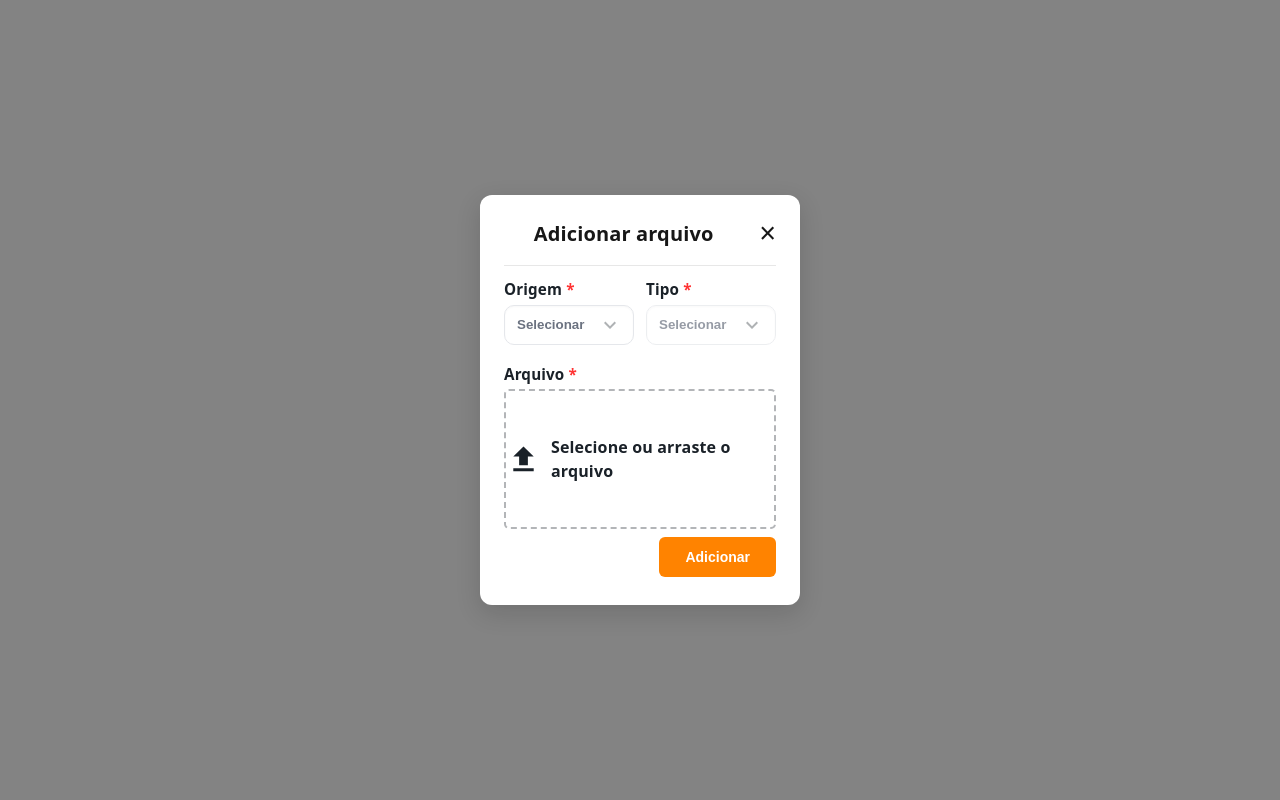
Test: AddFileModal (basic) › enables the type selector only after choosing an origin
The width and height of the screenshot is (1280, 800).
Check: the dropdown labelled "Tipo *" is disabled, box [646,304,776,344]
Select "SIMBA" in the dropdown labelled "Origem *" at x=569, y=324, box [504,304,634,344]
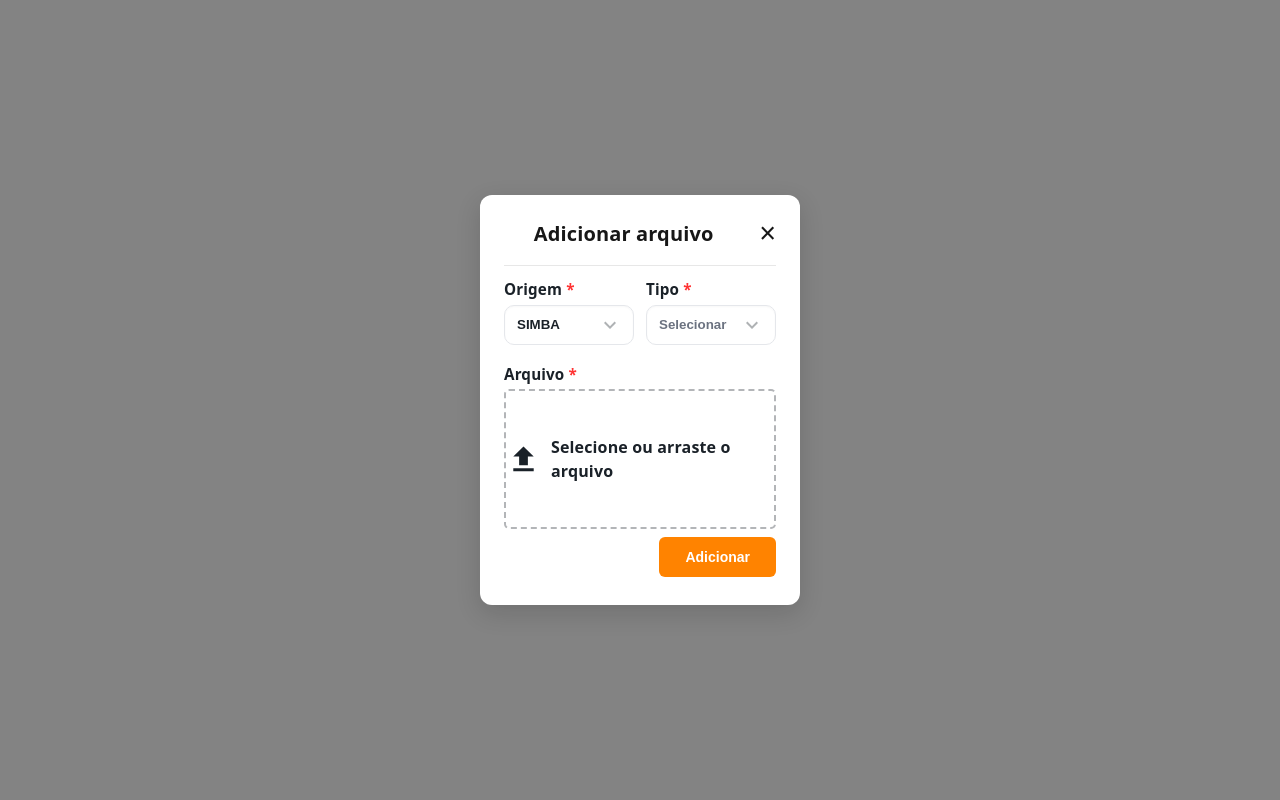
Check: the dropdown labelled "Tipo *" is enabled, box [646,304,776,344]
